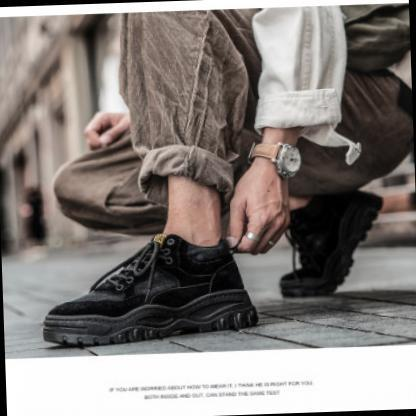safety-shoe: (42, 247, 268, 380), (271, 180, 396, 323)
